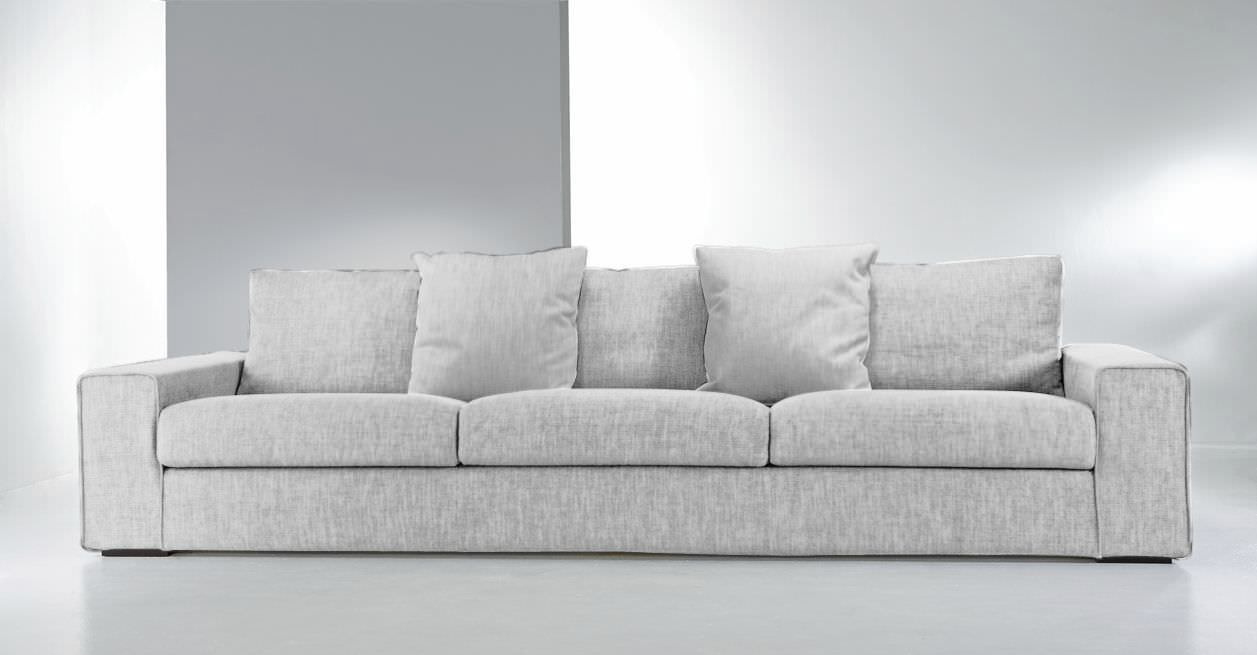chairs: (71, 241, 1199, 568)
